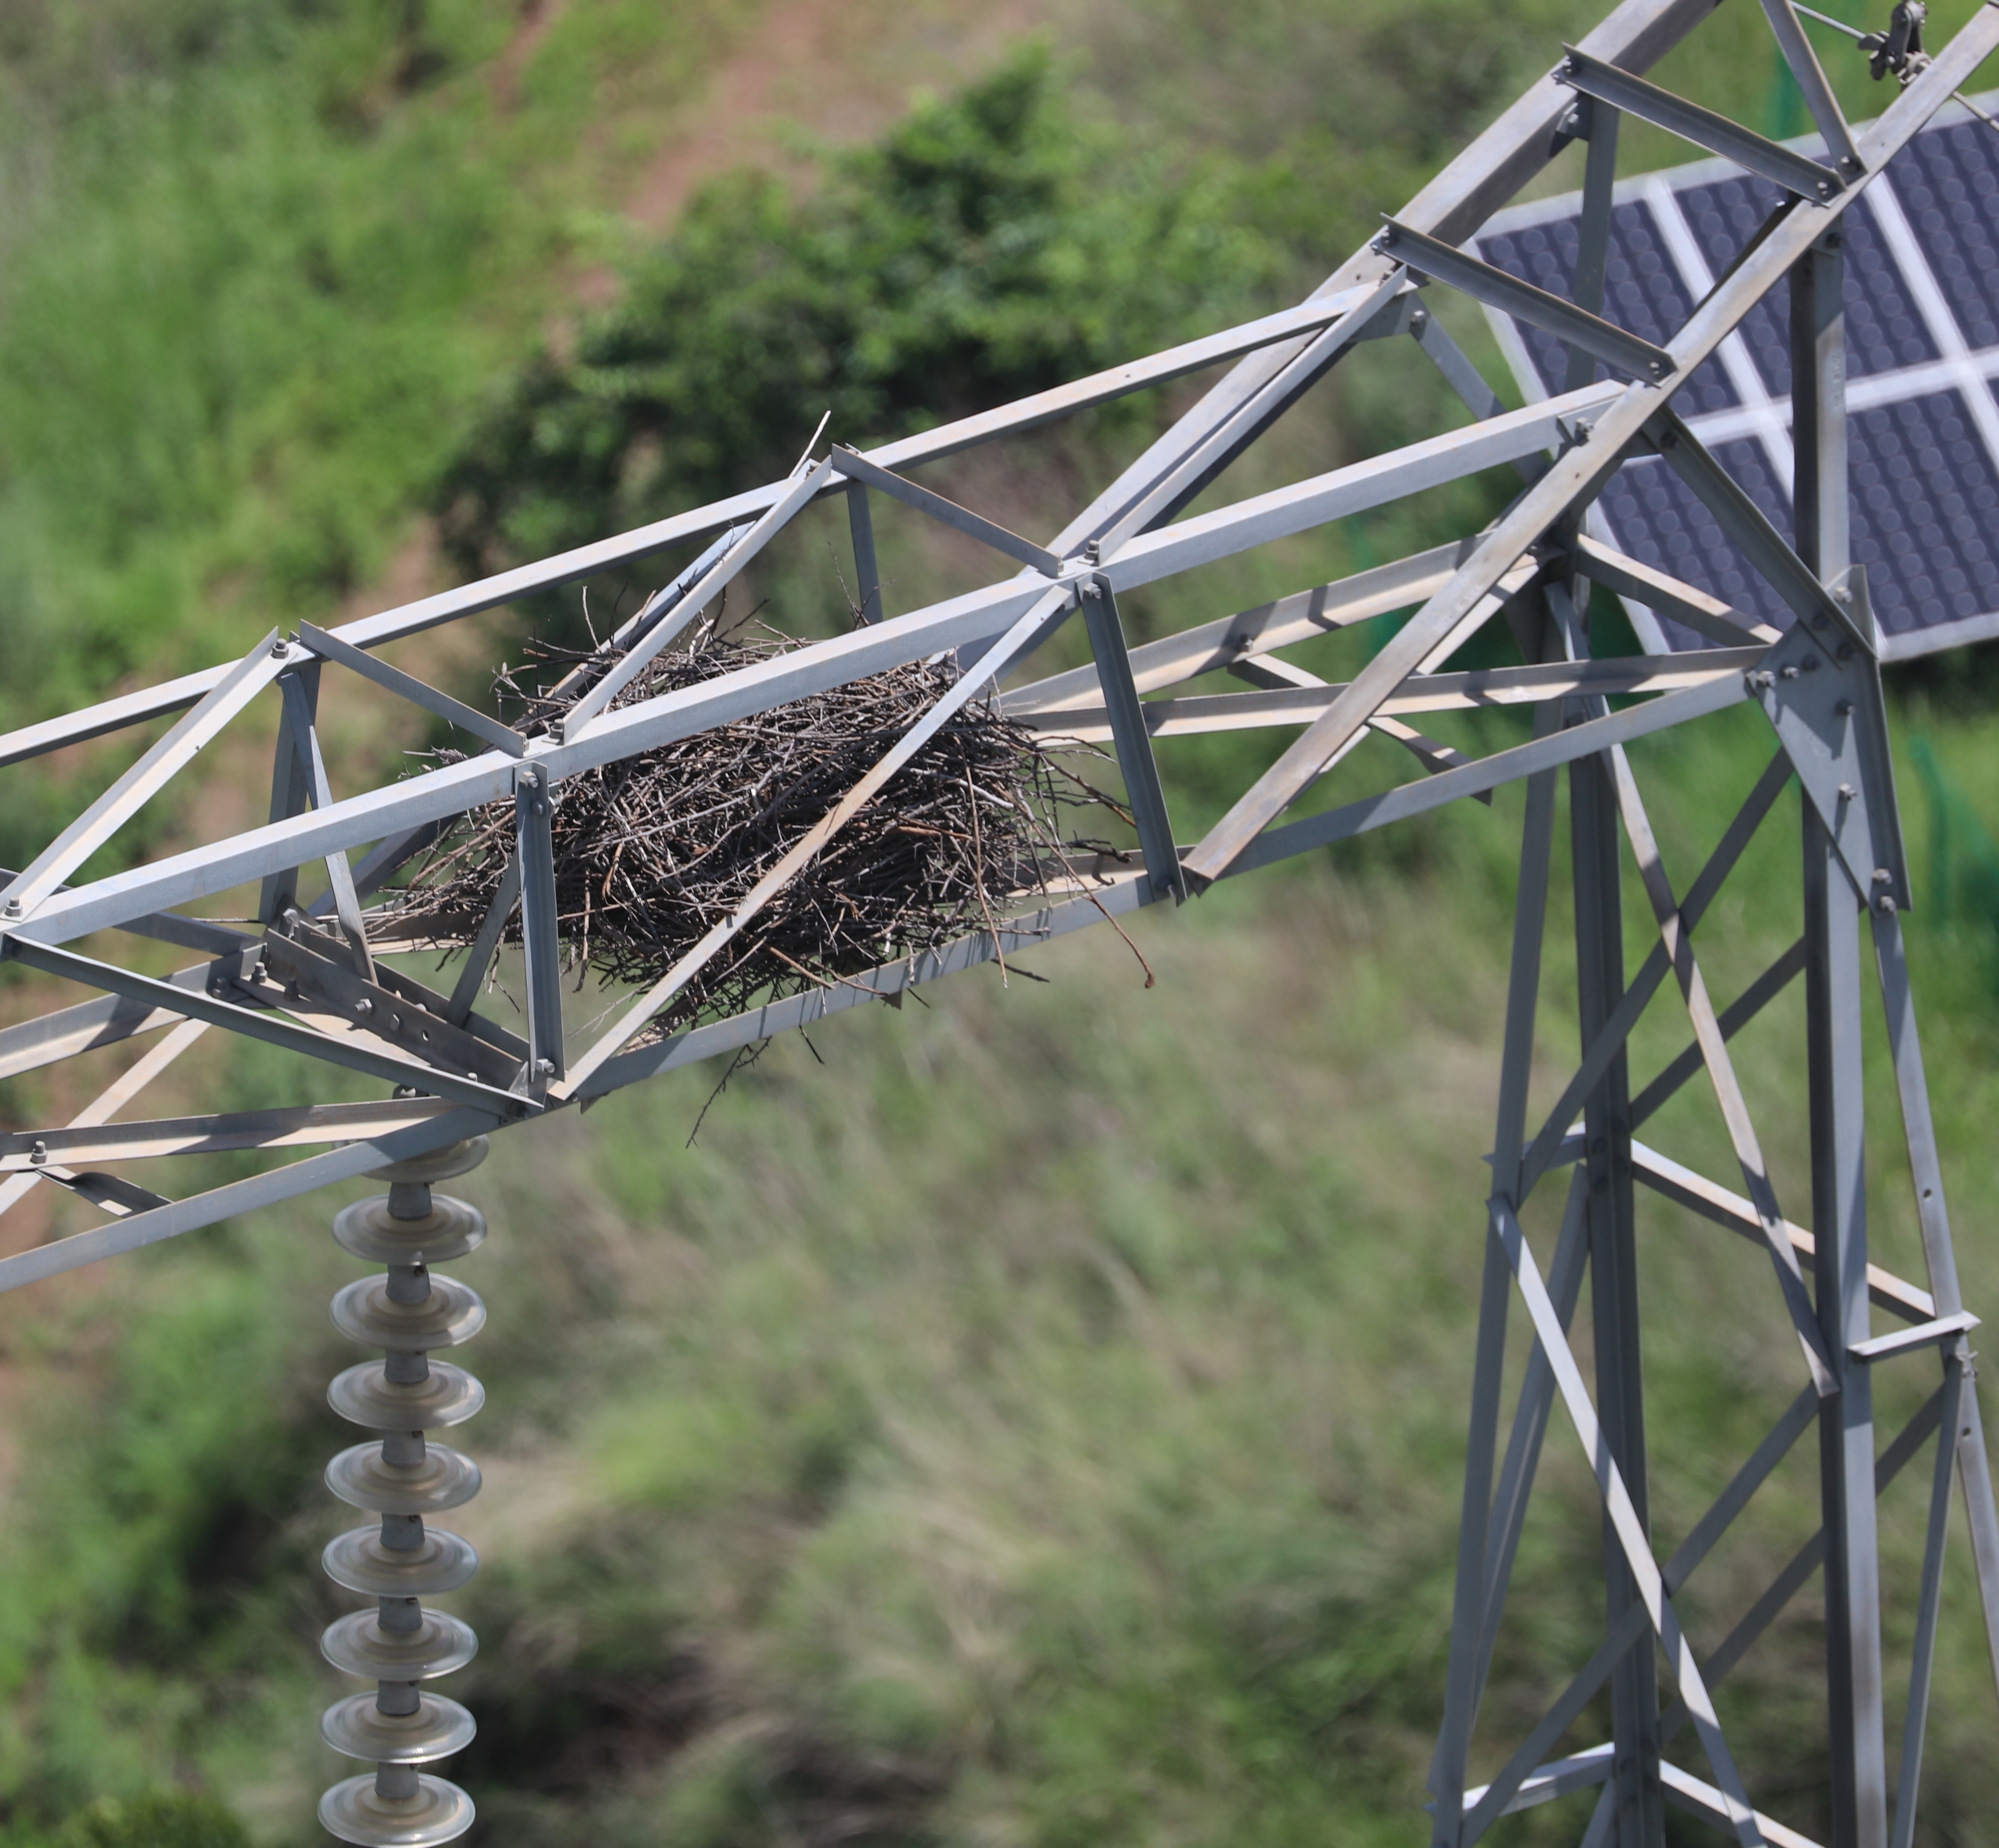niaowo: (467, 610, 1100, 1047)
